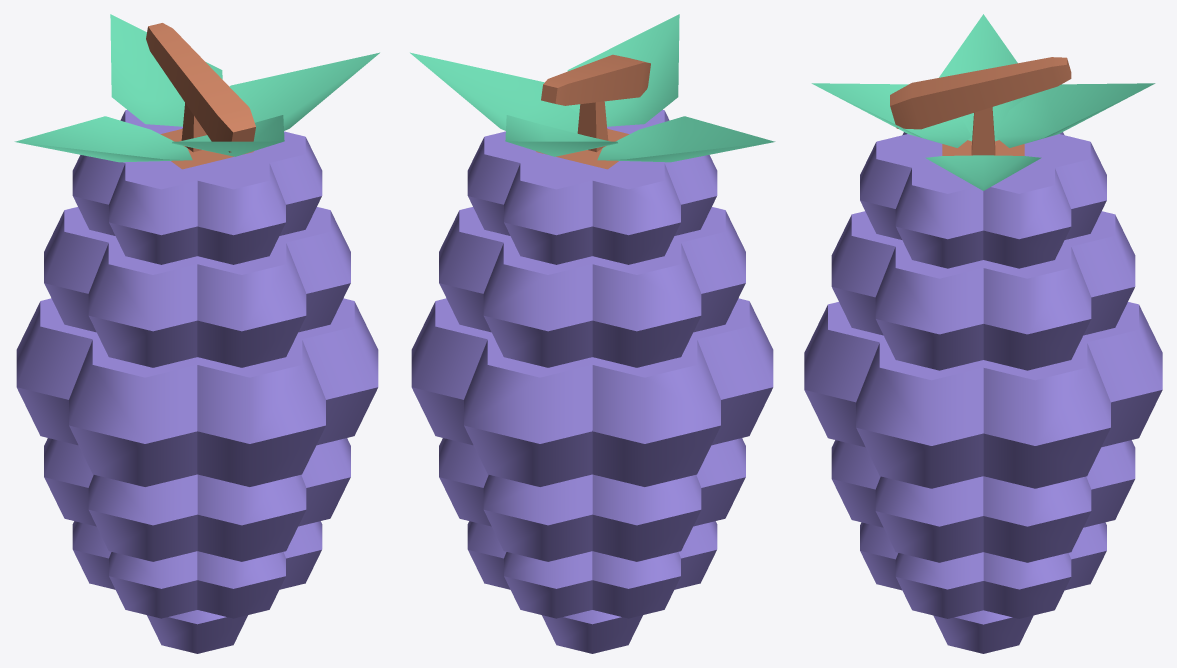
Rendered from grapes.fbx.
3 views of the same model, side by side, from view 1: azimuth 30°, elevation 25°; view 2: azimuth 150°, elevation 25°; view 3: azimuth 270°, elevation 25° (orthographic).
Parts seen in each view (by area): view 1: grapes; view 2: grapes; view 3: grapes.
Part boxes in pixels (bbox=[...]): grapes: bbox=[14, 14, 379, 653]; grapes: bbox=[410, 14, 775, 653]; grapes: bbox=[804, 14, 1162, 653].
Size of the model in its own units: 2.79 by 4.23 by 2.39.
